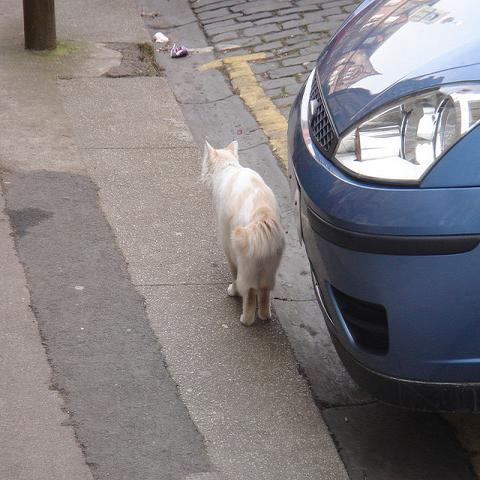car: (284, 0, 479, 414)
